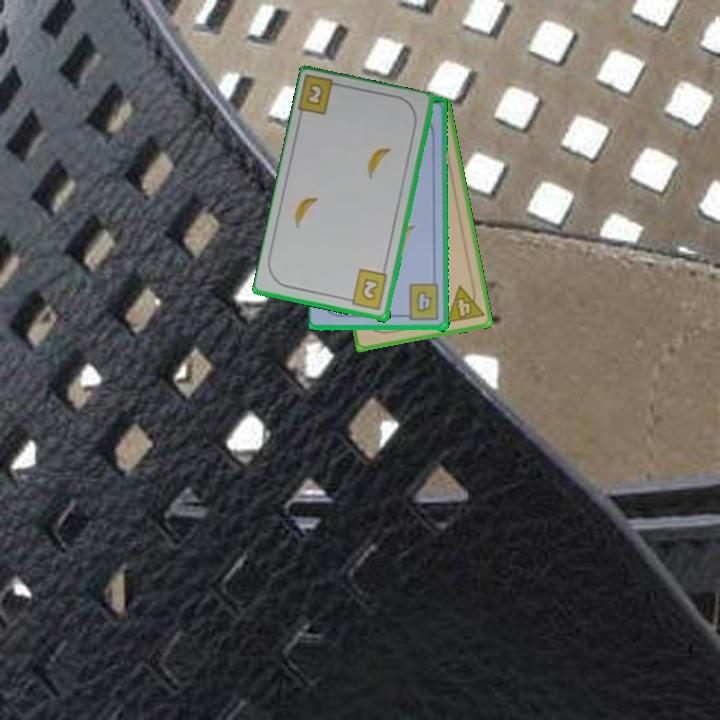2b: (343, 266, 391, 313), (303, 80, 326, 109)
4b: (399, 281, 442, 323)
4p: (443, 280, 487, 326)
